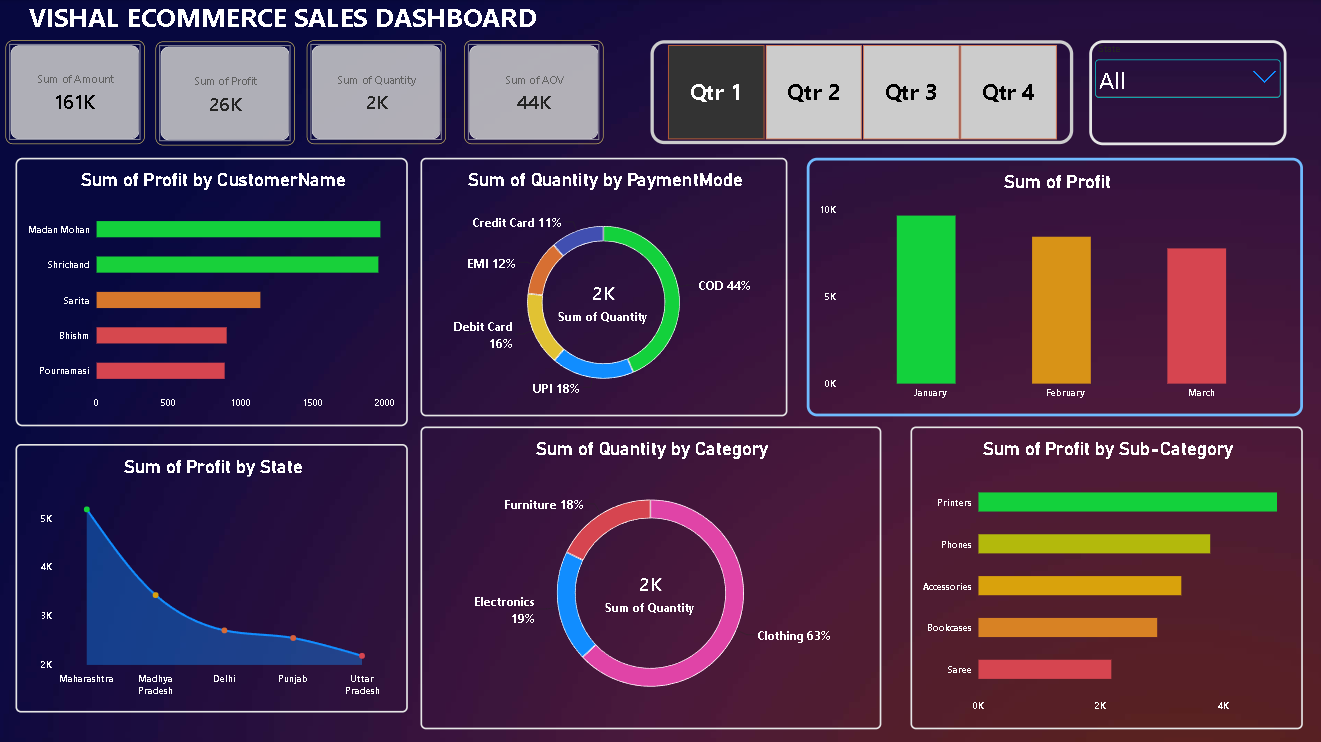

Layout of this report page (visuals, bound fields, positions):
{"tool":"powerbi","page":{"name":"Page 1","canvas":[1920,1080],"ordinal":0},"visuals":[{"type":"textbox","box":[10.3,0,802.7,74.1],"z":0},{"type":"columnChart","title":"Sum of Profit ","fields":{"Category":["Orders.Order Date.Variation.Date Hierarchy.Month"],"Y":["Sum(Details.Profit)"]},"box":[1171.2,230.5,718.4,374.6],"z":1000},{"type":"barChart","fields":{"Category":["Details.Sub-Category"],"Y":["Sum(Details.Profit)"]},"box":[1321.4,619.6,568.1,438.4],"z":2000},{"type":"donutChart","fields":{"Category":["Details.Category"],"Y":["Sum(Details.Quantity)"]},"box":[611.3,619.6,666.9,438.4],"z":3000},{"type":"donutChart","fields":{"Category":["Details.PaymentMode"],"Y":["Sum(Details.Quantity)"]},"box":[611.3,230.5,531,374.6],"z":4000},{"type":"cardVisual","fields":{"Data":["Sum(Details.Amount)"]},"box":[10.3,59.7,201.7,150.3],"z":5000},{"type":"cardVisual","fields":{"Data":["Sum(Details.Profit)"]},"box":[228.5,61.7,201.7,150.3],"z":6000},{"type":"cardVisual","fields":{"Data":["Sum(Details.Quantity)"]},"box":[446.7,59.7,201.7,150.3],"z":7000},{"type":"cardVisual","fields":{"Data":["Sum(Details.AOV)"]},"box":[675.1,59.7,201.7,150.3],"z":8000},{"type":"barChart","fields":{"Category":["Orders.CustomerName"],"Y":["Sum(Details.Profit)"]},"box":[24.7,230.5,568.1,389],"z":9000},{"type":"stackedAreaChart","fields":{"Category":["Orders.State"],"Y":["Sum(Details.Profit)"]},"box":[24.7,644.3,568.1,389],"z":10000},{"type":"slicer","fields":{"Values":["Orders.Order Date.Variation.Date Hierarchy.Quarter"]},"box":[944.6,59.7,611.7,150.2],"z":11000},{"type":"slicer","fields":{"Values":["Orders.State"]},"box":[1579.8,59.7,285.9,152],"z":12000}]}

Visuals, with their boxes in screenshot pixels (x1, y1, x2, y2), scaled from the page's 1920x1080 canvas onto the 1321x742 screenshot:
textbox: (x1=7, y1=0, x2=559, y2=51)
"Sum of Profit " columnChart: (x1=806, y1=158, x2=1300, y2=416)
barChart - Details.Sub-Category x Sum(Details.Profit): (x1=909, y1=426, x2=1300, y2=727)
donutChart - Details.Category x Sum(Details.Quantity): (x1=421, y1=426, x2=879, y2=727)
donutChart - Details.PaymentMode x Sum(Details.Quantity): (x1=421, y1=158, x2=786, y2=416)
cardVisual - Sum(Details.Amount): (x1=7, y1=41, x2=146, y2=144)
cardVisual - Sum(Details.Profit): (x1=157, y1=42, x2=296, y2=146)
cardVisual - Sum(Details.Quantity): (x1=307, y1=41, x2=446, y2=144)
cardVisual - Sum(Details.AOV): (x1=464, y1=41, x2=603, y2=144)
barChart - Orders.CustomerName x Sum(Details.Profit): (x1=17, y1=158, x2=408, y2=426)
stackedAreaChart - Orders.State x Sum(Details.Profit): (x1=17, y1=443, x2=408, y2=710)
slicer - Orders.Order Date.Variation.Date Hierarchy.Quarter: (x1=650, y1=41, x2=1071, y2=144)
slicer - Orders.State: (x1=1087, y1=41, x2=1284, y2=145)
